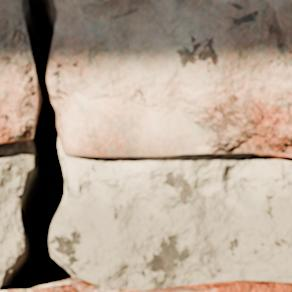brick: (7, 278, 139, 291), (141, 281, 291, 291)
broken_brick: (49, 0, 291, 158), (0, 0, 35, 146)
crack: (0, 0, 75, 291), (105, 151, 287, 157)
